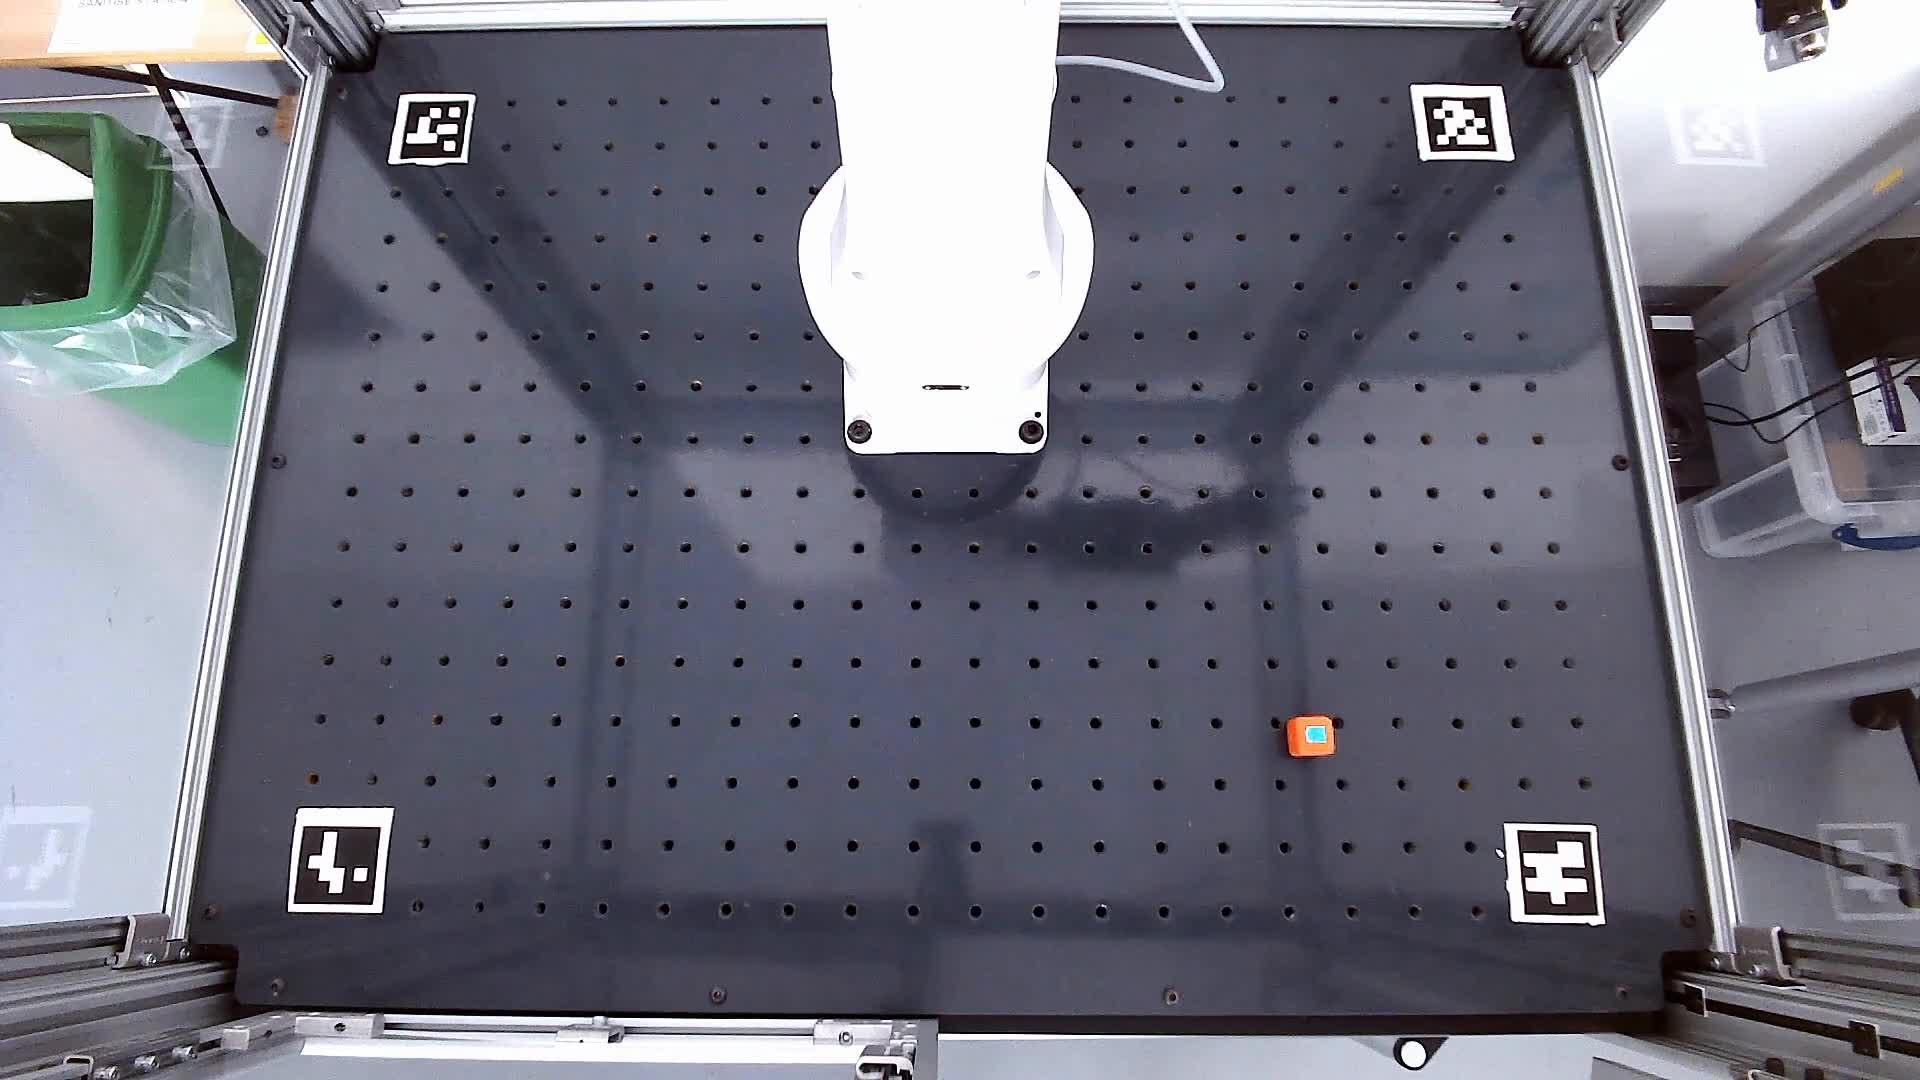blue: (1299, 725, 1332, 746)
sticker: (1278, 715, 1340, 758)
